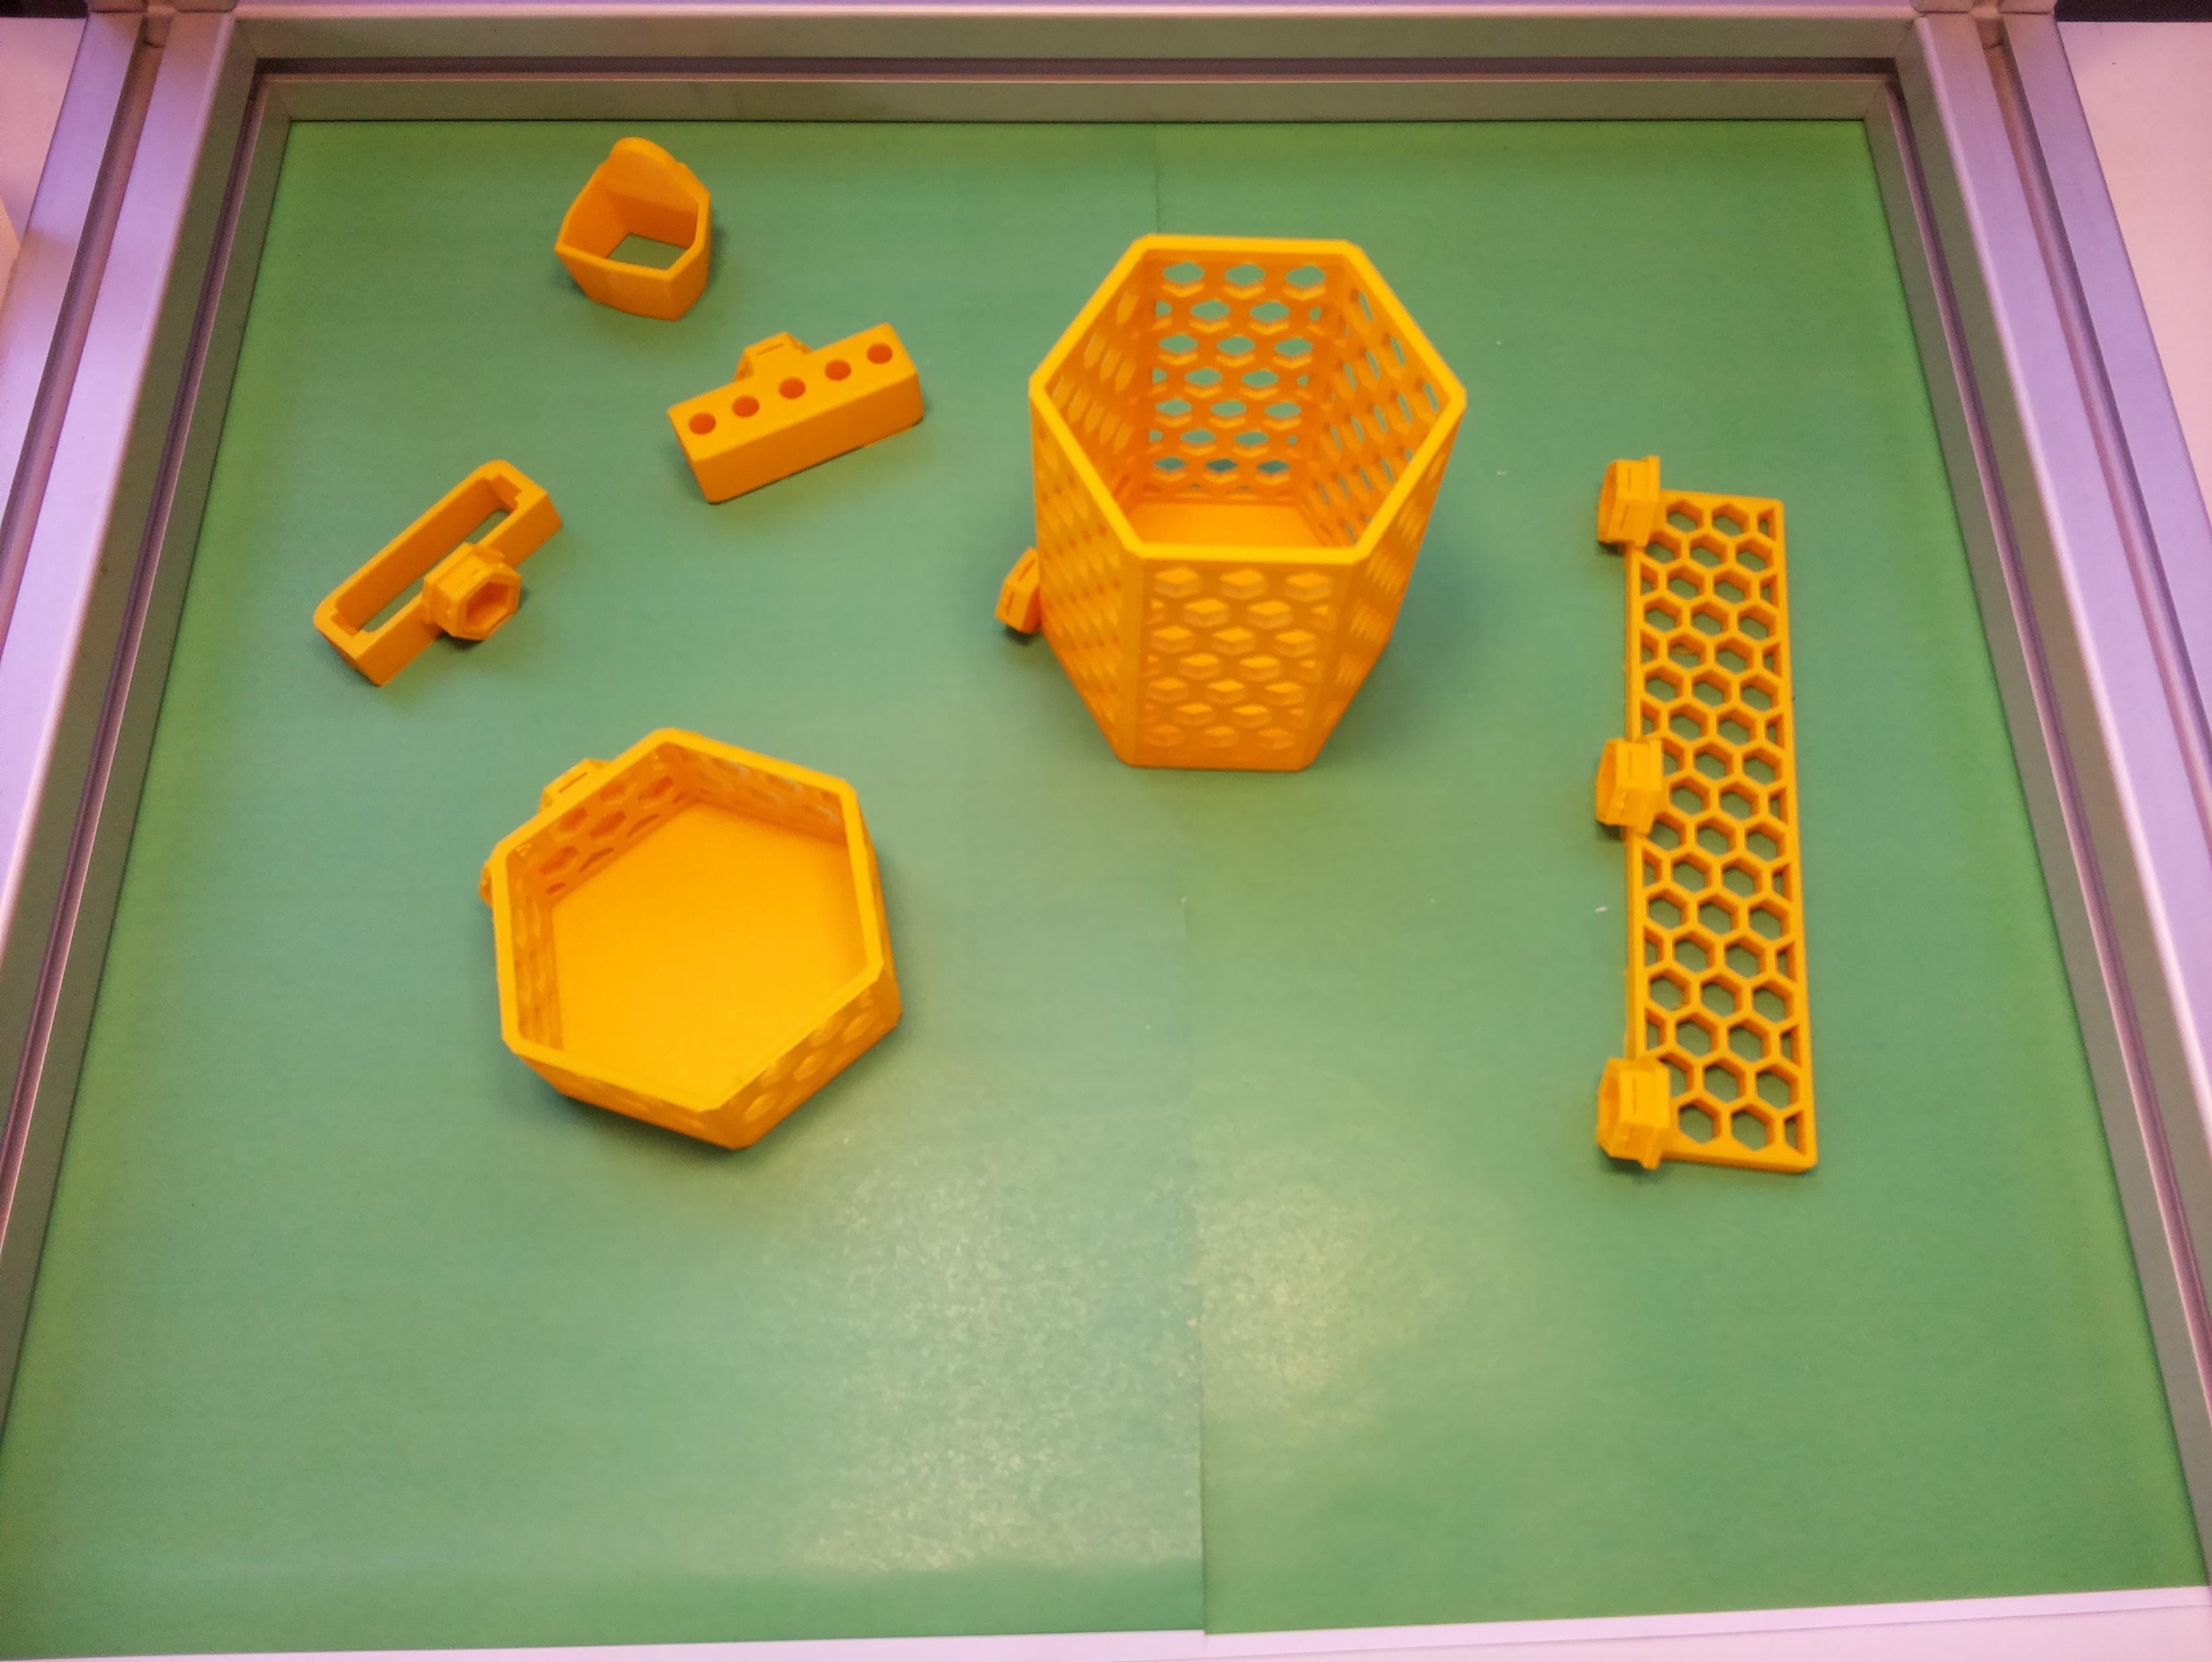bit_holder: (655, 292, 936, 510)
bottle_holder: (457, 698, 920, 1184)
cup_holder: (925, 162, 1503, 829)
cutter_holder: (306, 445, 594, 718)
scissor_holder: (536, 122, 754, 344)
tool_holder: (1590, 456, 1817, 1173)
